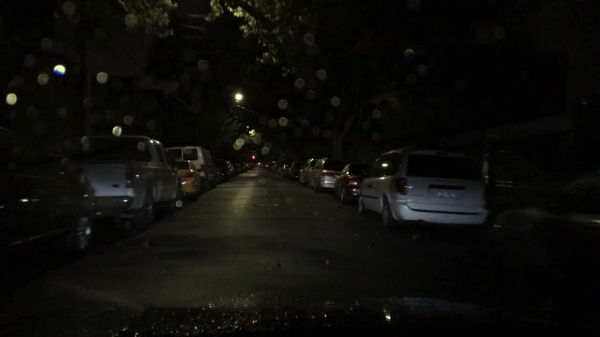car: (0, 124, 101, 256), (489, 171, 598, 292), (355, 142, 494, 234), (61, 132, 183, 234), (166, 144, 218, 193), (332, 161, 373, 206), (309, 156, 347, 194), (175, 158, 204, 201), (298, 157, 321, 188), (213, 157, 234, 182), (286, 160, 304, 181), (214, 168, 227, 186), (225, 160, 236, 180), (279, 163, 290, 178), (232, 162, 242, 176), (268, 161, 279, 173), (274, 162, 283, 175), (239, 162, 248, 174), (244, 162, 252, 171), (262, 162, 271, 169)
traffic light: (251, 154, 256, 161)
